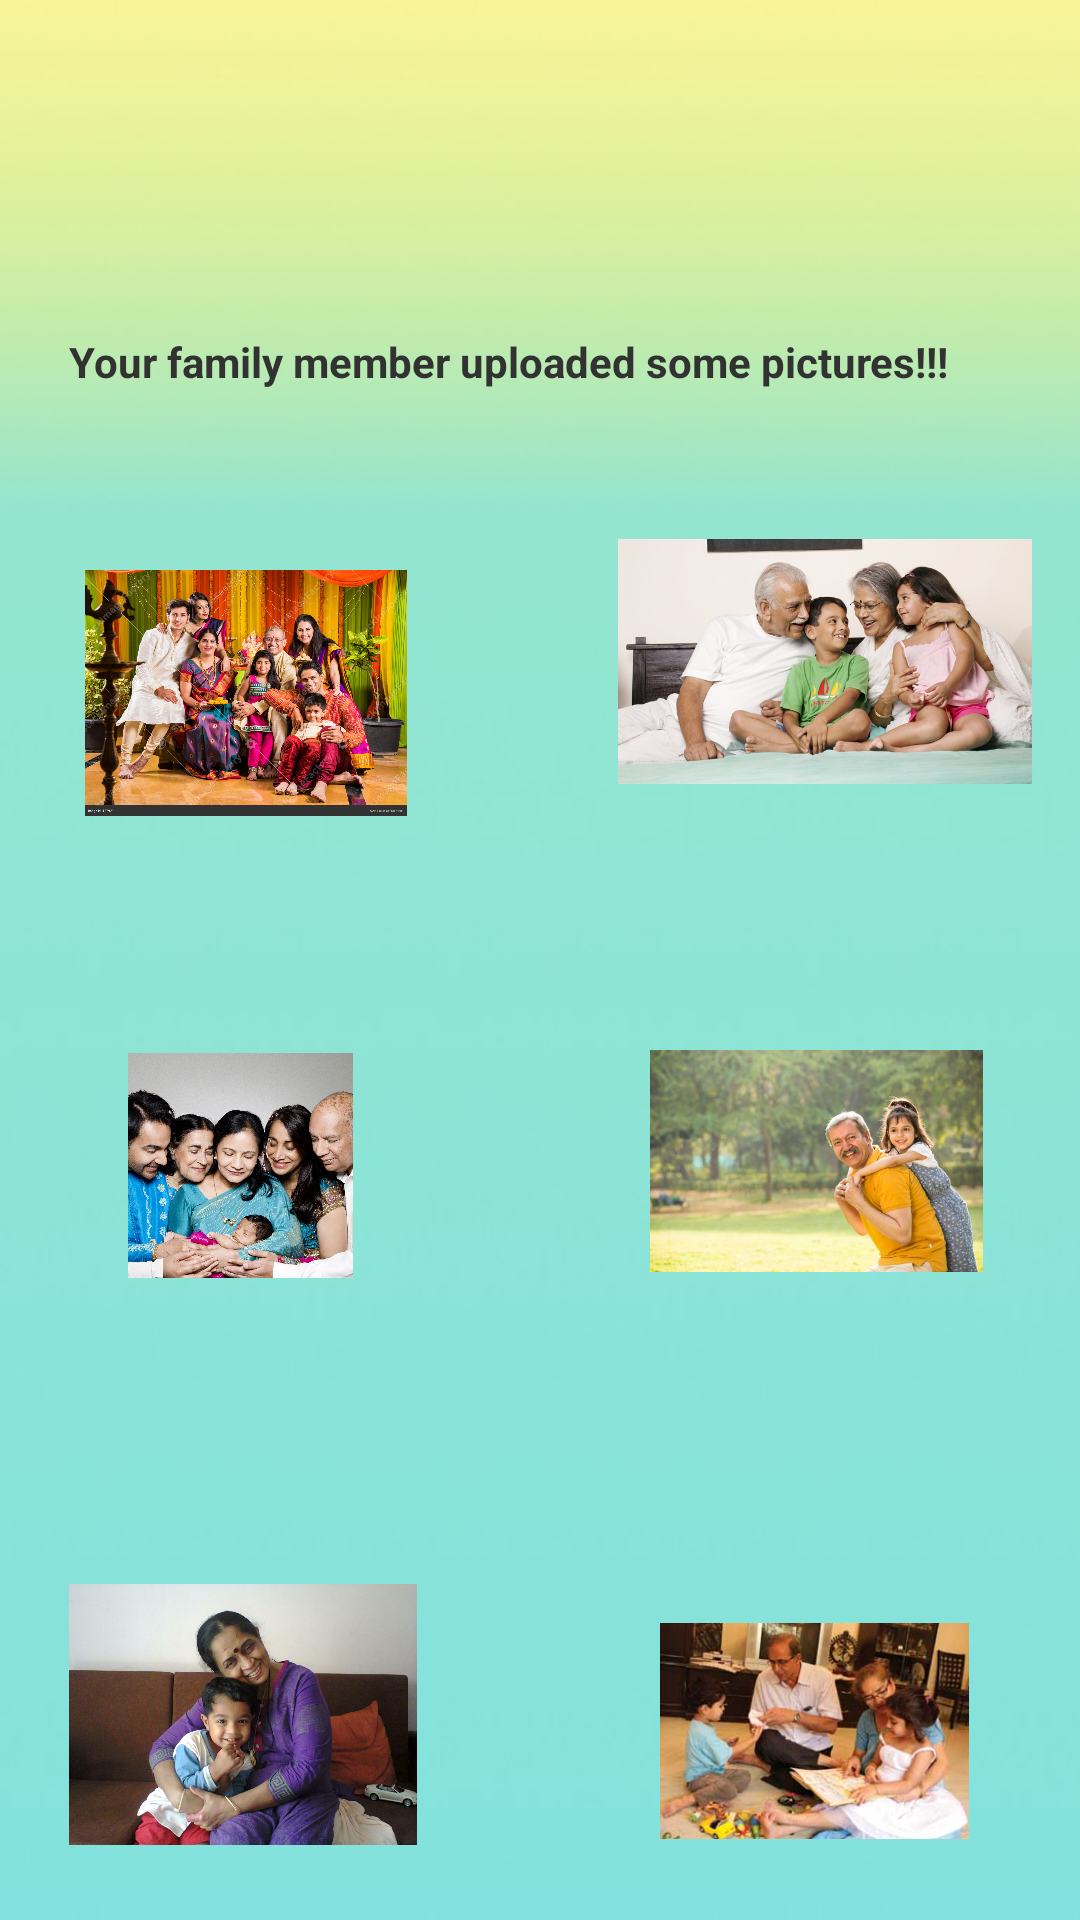

Screen size 1080x1920. Icon name, then its center in pixels as (x,y):
mom: (243,1714)
